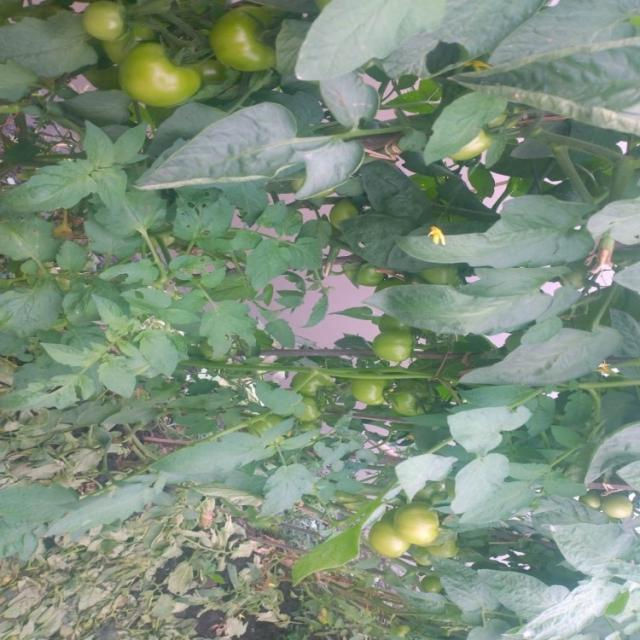tomato: (114, 43, 208, 114), (208, 7, 294, 80), (387, 497, 445, 562), (371, 326, 417, 376), (361, 517, 401, 571), (390, 375, 432, 421), (588, 486, 634, 528), (79, 1, 126, 36), (447, 128, 498, 156), (293, 386, 327, 424), (356, 261, 390, 293), (351, 377, 385, 406)
